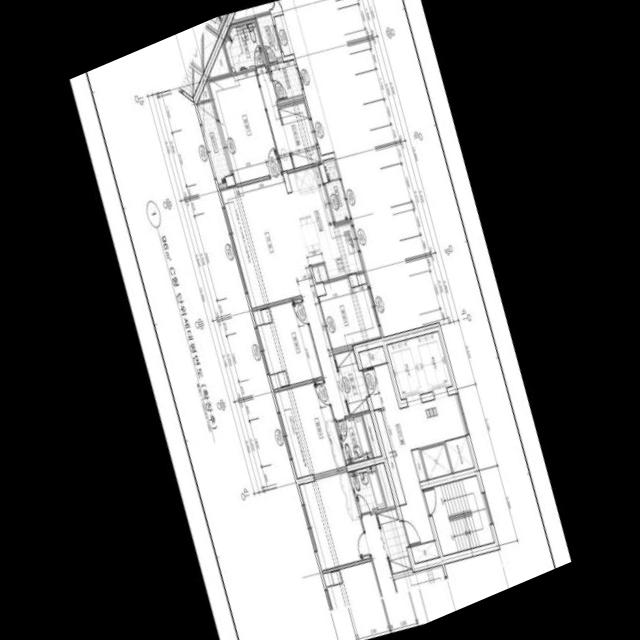background: (69, 0, 571, 640)
space_balconi: (197, 102, 230, 183), (323, 158, 349, 221), (269, 60, 302, 100), (256, 13, 281, 62)
space_bedroom: (208, 71, 281, 184), (274, 381, 345, 478), (257, 298, 321, 384), (318, 277, 381, 349)
space_dressroom: (279, 102, 320, 168)
space_elevator: (411, 331, 452, 392), (386, 338, 426, 399)
space_elevator_hall: (363, 363, 465, 546)
space_front: (334, 350, 368, 414)
space_kitchen: (287, 166, 363, 279)
space_living_room: (219, 176, 348, 418)
space_other: (256, 68, 293, 170), (374, 409, 405, 504), (445, 436, 474, 473), (421, 444, 450, 479), (363, 413, 381, 457), (233, 1, 274, 20), (410, 541, 439, 563), (209, 46, 229, 77), (358, 346, 386, 368), (411, 449, 426, 481), (311, 265, 327, 282)
space_staircase: (425, 475, 494, 555)
space_toilet: (225, 22, 265, 73), (335, 416, 372, 465)
